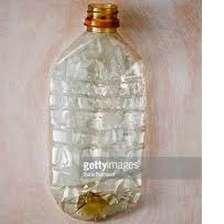bottle: (41, 0, 153, 223)
